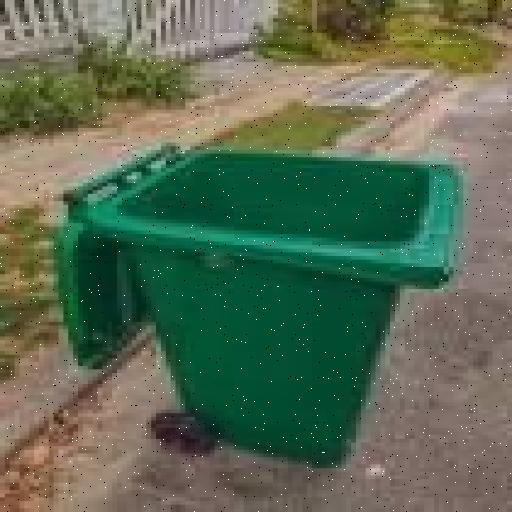poubelle_vide: (34, 84, 494, 494)
